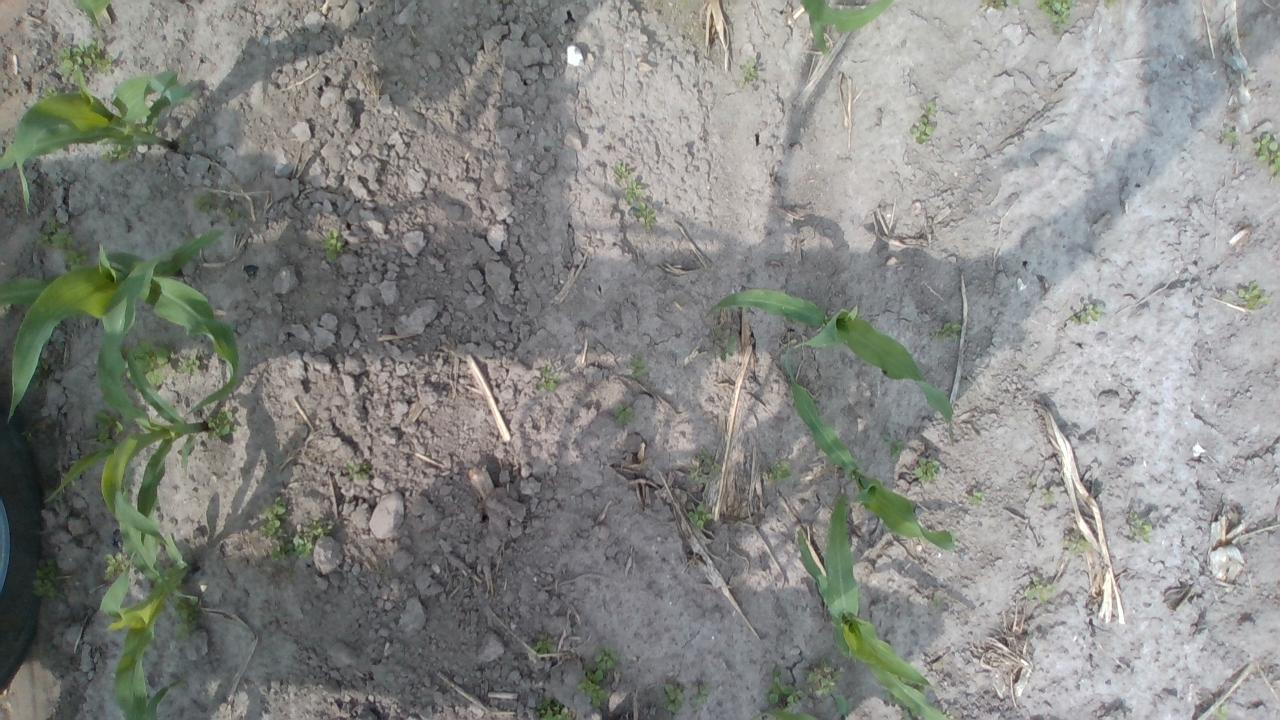Maize: (0, 224, 239, 417), (49, 301, 213, 580), (792, 493, 952, 720), (704, 285, 955, 425), (784, 352, 958, 552), (0, 64, 197, 214), (98, 553, 196, 720), (797, 0, 898, 57), (766, 690, 849, 720), (66, 0, 186, 20)
Weeds: (122, 336, 174, 388), (58, 38, 112, 82), (764, 670, 806, 719), (804, 656, 842, 699), (254, 494, 288, 536), (293, 520, 329, 558), (88, 408, 124, 446), (169, 594, 197, 642), (1036, 0, 1076, 32), (583, 646, 618, 682), (31, 222, 78, 248), (686, 448, 722, 481), (1253, 132, 1280, 174), (1238, 280, 1272, 311), (574, 678, 610, 707), (208, 406, 238, 438), (1126, 510, 1152, 544), (321, 226, 343, 266), (628, 200, 656, 231), (1024, 578, 1056, 604), (536, 696, 570, 720), (880, 433, 906, 464), (61, 245, 90, 271), (909, 115, 935, 144), (104, 552, 130, 580), (1071, 302, 1104, 324), (270, 536, 297, 562), (101, 144, 135, 164), (662, 683, 684, 713), (929, 322, 962, 342), (770, 459, 796, 484), (176, 352, 203, 376), (914, 459, 942, 481), (688, 502, 712, 527), (537, 366, 560, 392), (628, 355, 650, 380), (192, 190, 215, 213), (612, 403, 634, 427), (1064, 536, 1092, 554), (625, 178, 643, 204), (136, 114, 161, 132), (718, 335, 736, 360), (612, 162, 632, 184), (1222, 122, 1242, 144), (693, 684, 712, 706), (742, 56, 759, 80), (346, 462, 368, 480), (531, 640, 556, 654), (84, 10, 98, 31), (40, 86, 58, 102), (1214, 701, 1228, 720), (968, 489, 984, 505), (225, 206, 240, 222), (180, 258, 194, 274), (904, 708, 918, 720), (1043, 489, 1054, 502), (926, 102, 938, 113), (932, 592, 941, 606), (992, 0, 1006, 9), (943, 709, 953, 720), (1104, 0, 1117, 7), (1009, 0, 1022, 6)
